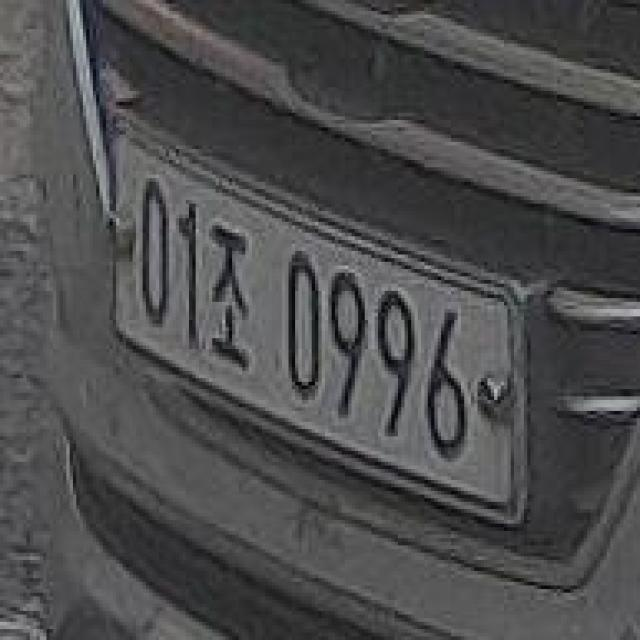illegal_plate: (100, 112, 527, 545)
